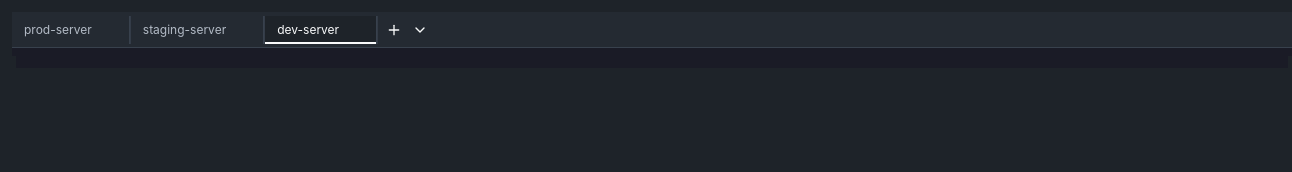
TerminalTabs › right-click context menu › disables Close to the right on the last tab
Right-click the tab "dev-server": (322, 30) x1=265 y1=16 x2=378 y2=44
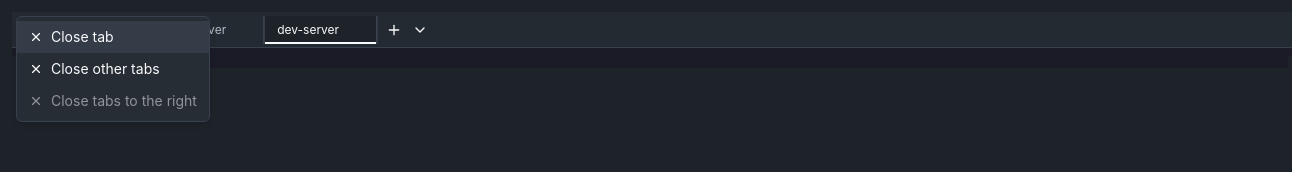
expect the menu item "Close tabs to the right" is disabled: met, box x1=17 y1=85 x2=209 y2=117
